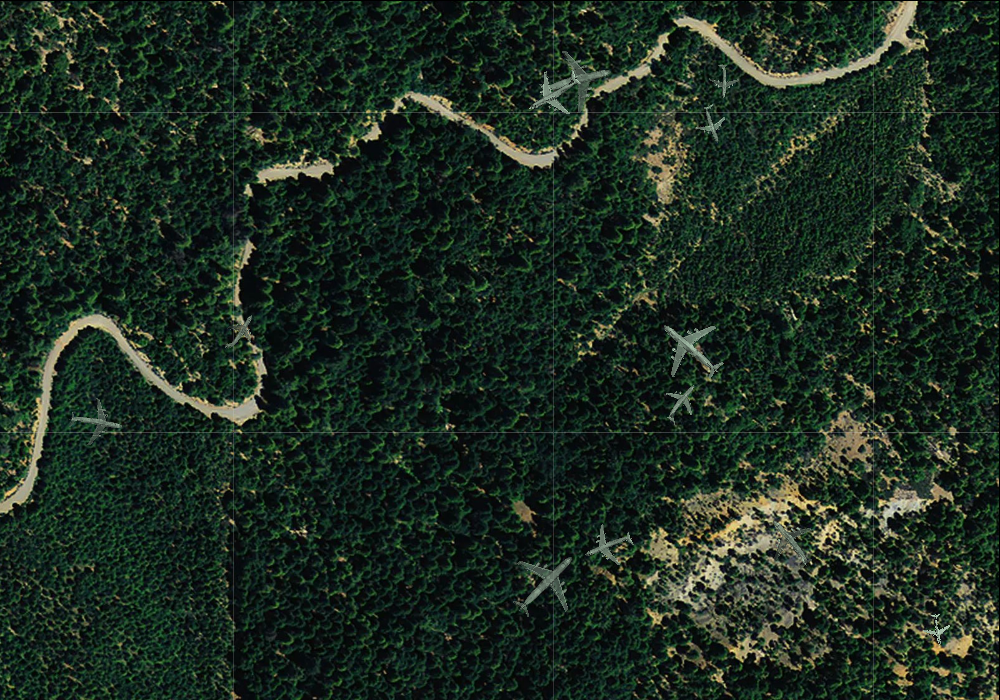plane: (494, 532, 596, 635), (642, 300, 739, 397), (530, 38, 620, 125), (752, 504, 829, 582), (514, 54, 592, 130), (576, 514, 641, 578), (64, 392, 126, 453), (652, 374, 710, 432), (212, 304, 264, 359), (689, 99, 736, 147), (920, 611, 955, 647), (706, 63, 740, 98)
